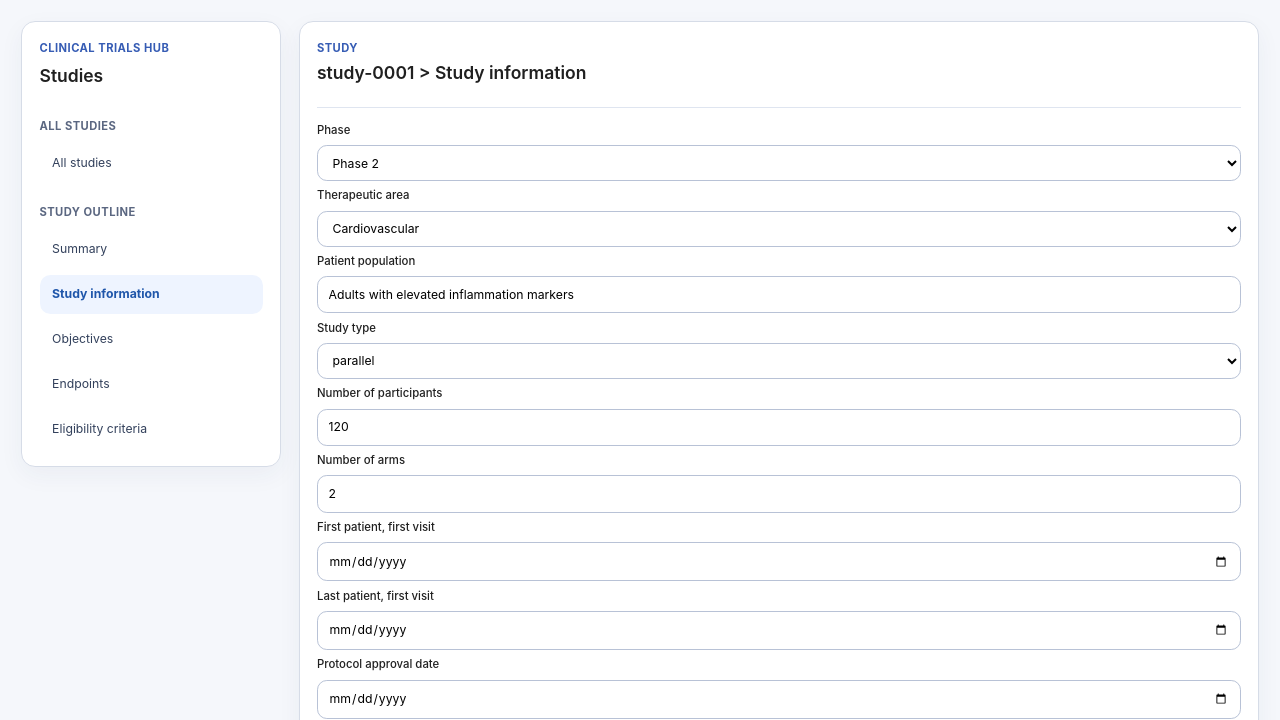
Scenario: Edit study summary › sends a PUT /api/v1/studies/:id request on Save when the form is valid
Select "Phase 3" in the dropdown labelled "Phase" at (779, 163), box [317,145,1240,181]
(page scrolled)
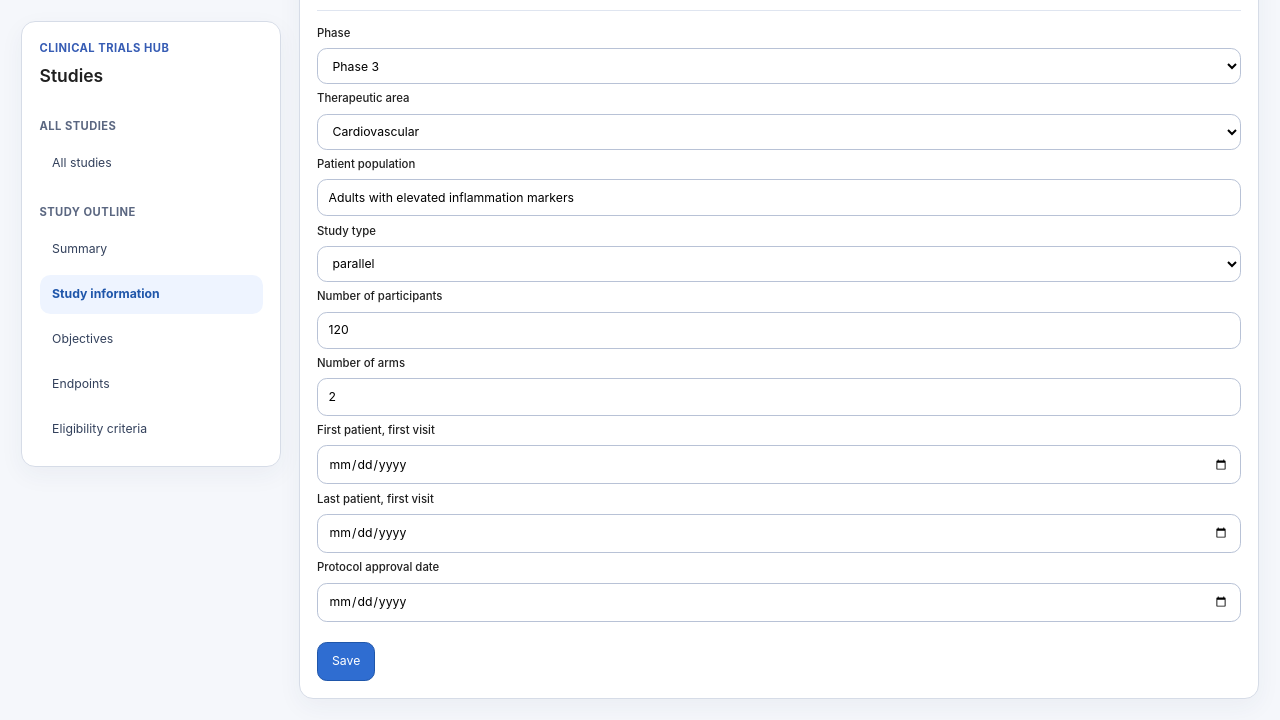
Click the button with test id "section-save-button" at (346, 662), box [317,642,375,681]
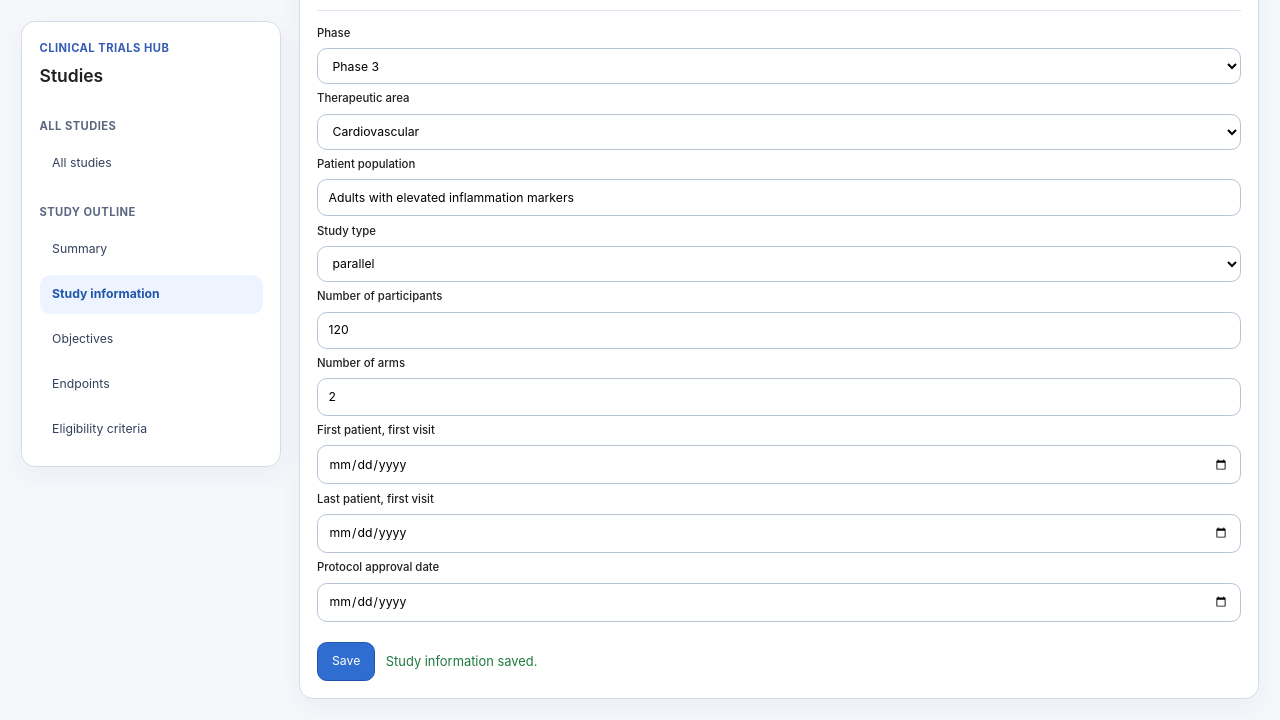
Expected: the text "Study information saved." is shown, [386,652,537,671]
